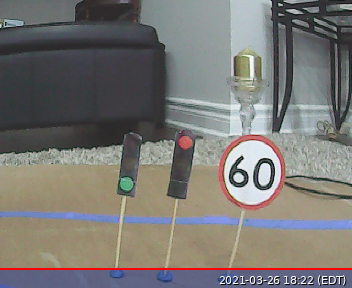Green Traffic Light: (115, 130, 141, 197)
Red Traffic Light: (163, 126, 197, 199)
Speed Limit 60: (218, 133, 286, 211)
